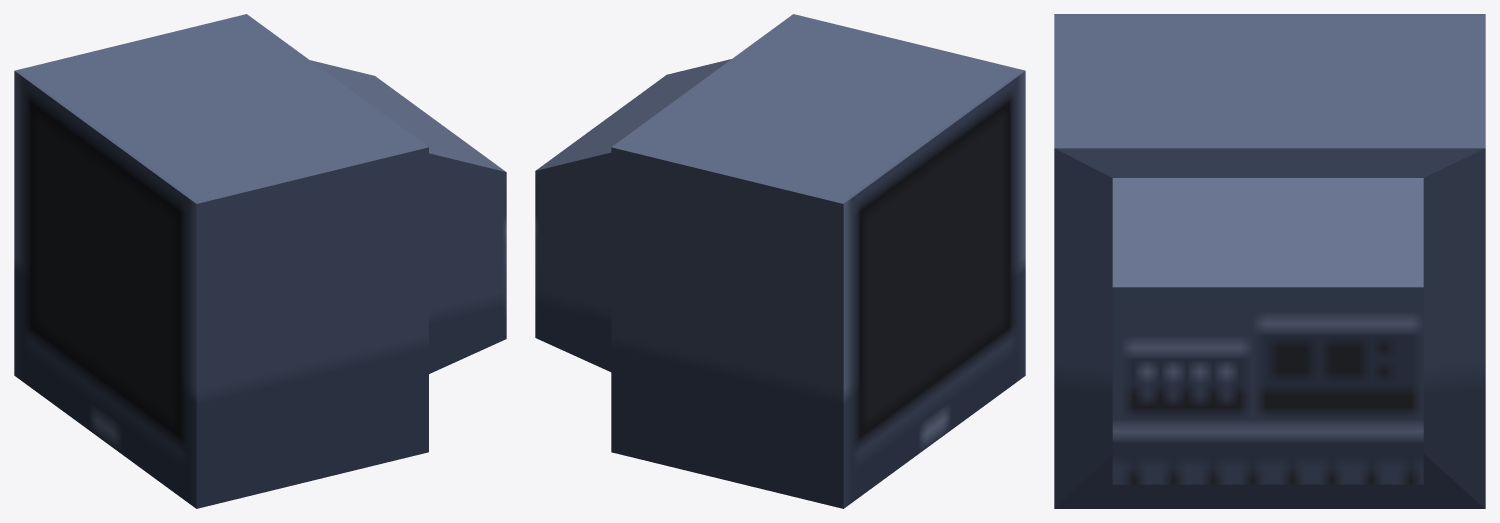
The picture shows the model from 3 angles, left to right: view 1: azimuth 30°, elevation 25°; view 2: azimuth 150°, elevation 25°; view 3: azimuth 270°, elevation 25°; orthographic projection. The views are drawn at different scales.
Visible parts, largest first — view 1: TV_Tube.001; view 2: TV_Tube.001; view 3: TV_Tube.001.
Part boxes in pixels (<box>): TV_Tube.001: <box>14,14,506,508</box>; TV_Tube.001: <box>535,14,1025,508</box>; TV_Tube.001: <box>1054,14,1485,508</box>.
Bounding box in the file's own units: 0.9371 × 0.8162 × 0.8836.
